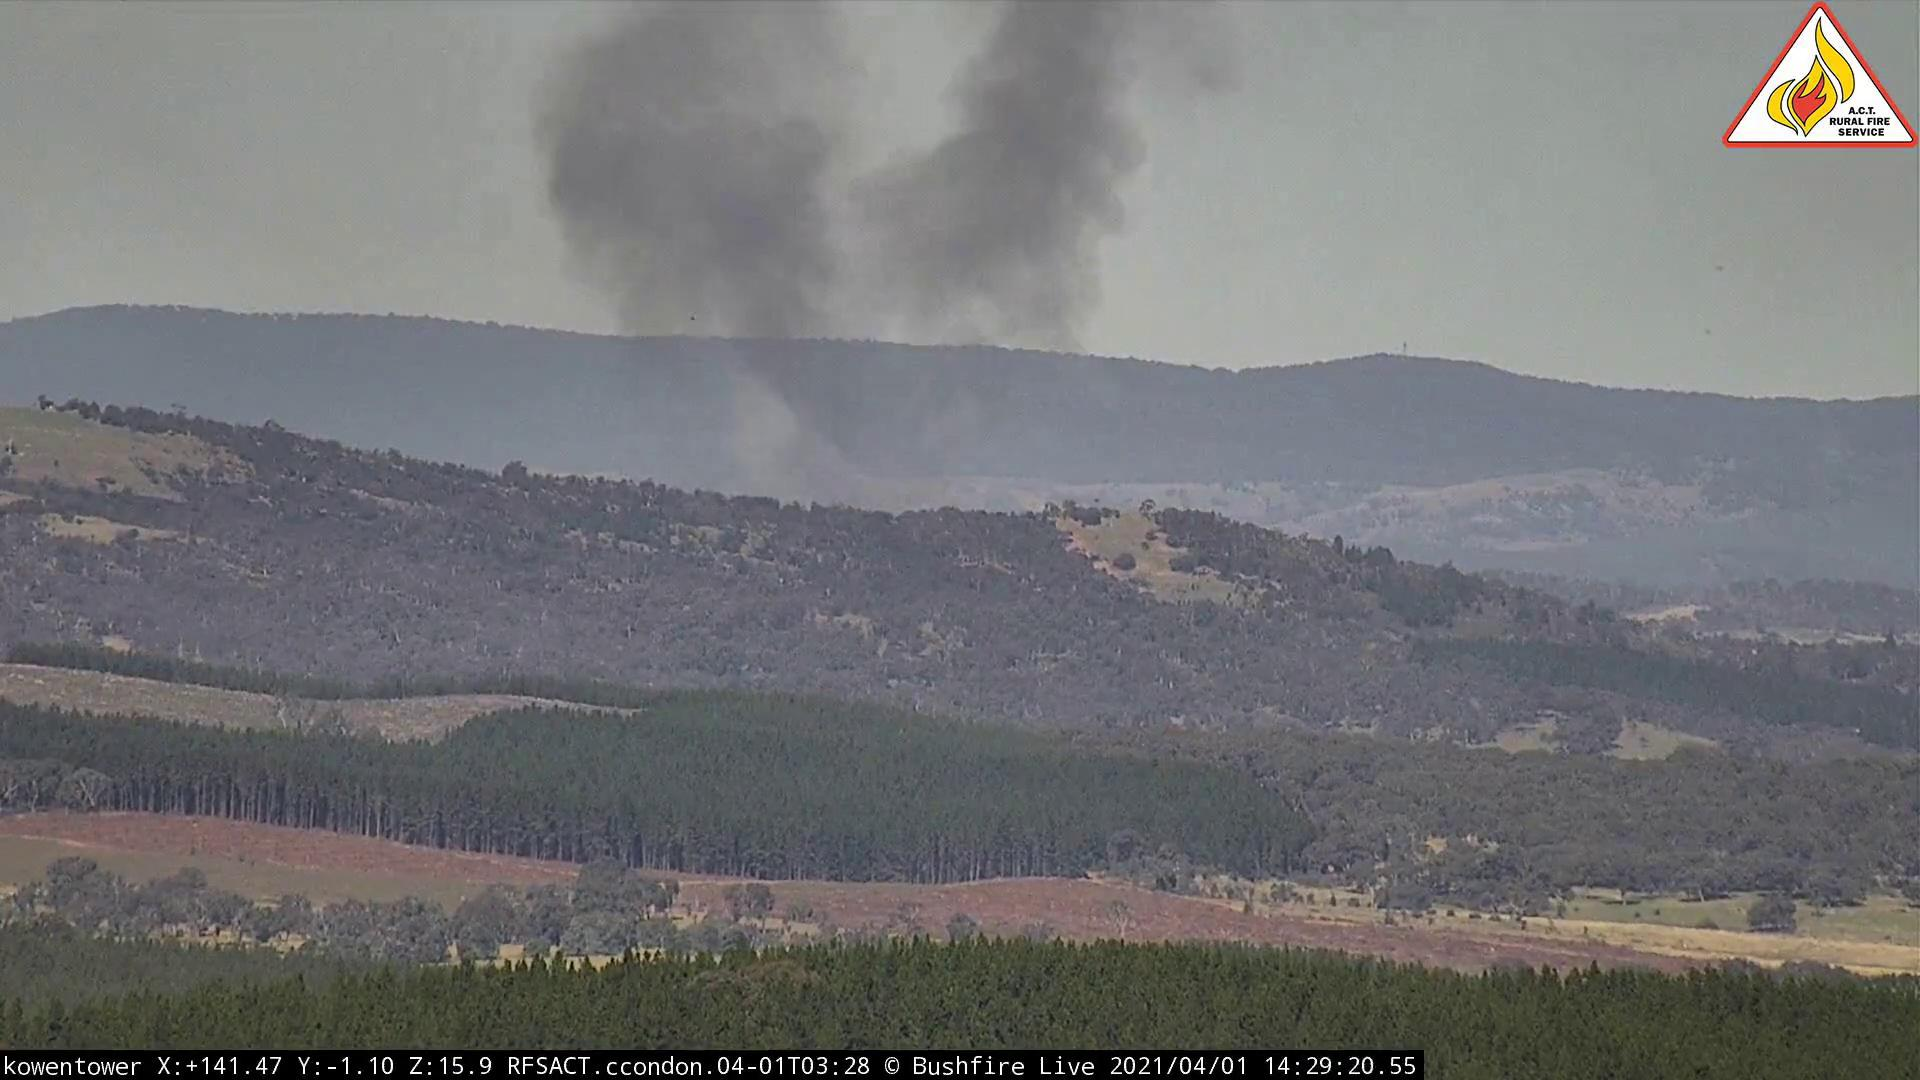Smoke: (504, 3, 1254, 517)
